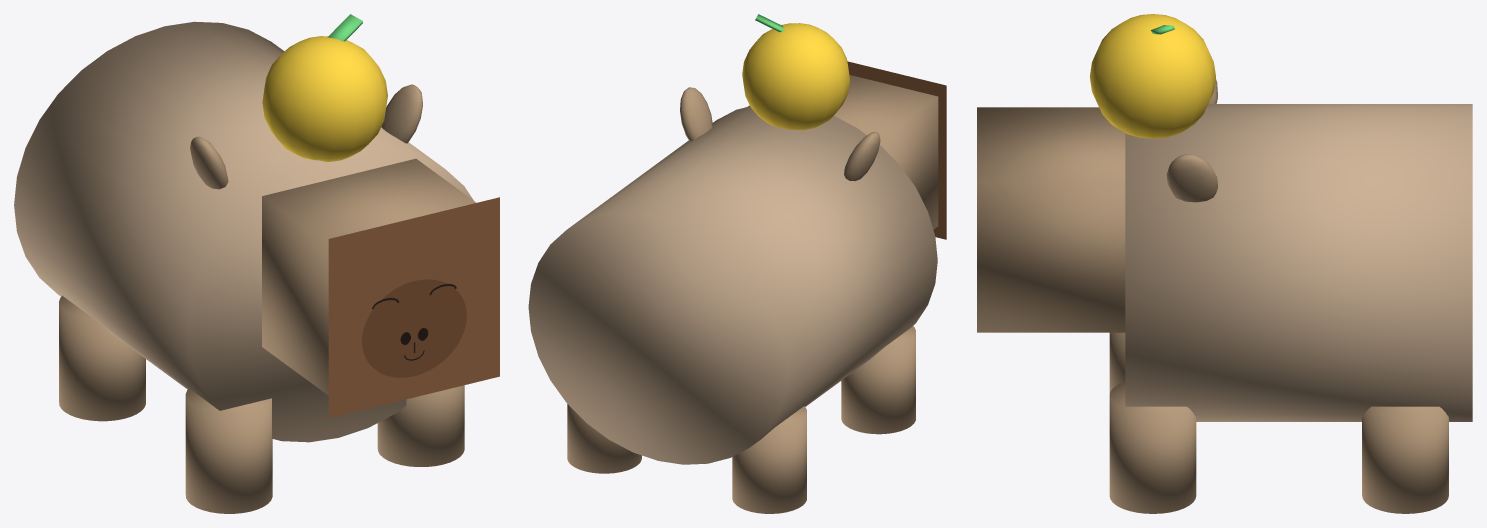
File: capybara.glb
3 renders of one model, left to right at view 1: azimuth 30°, elevation 25°; view 2: azimuth 150°, elevation 25°; view 3: azimuth 270°, elevation 25°, orthographic. The views are drawn at different scales.
Visible parts, largest first — view 1: Capybara; view 2: Capybara; view 3: Capybara.
Part boxes in pixels (<box>): Capybara: <box>14,14,499,513</box>; Capybara: <box>528,14,946,513</box>; Capybara: <box>977,14,1472,513</box>.
Bounding box in the file's own units: 1.1 × 1.54 × 1.57.
5 materials, 1 textured.
